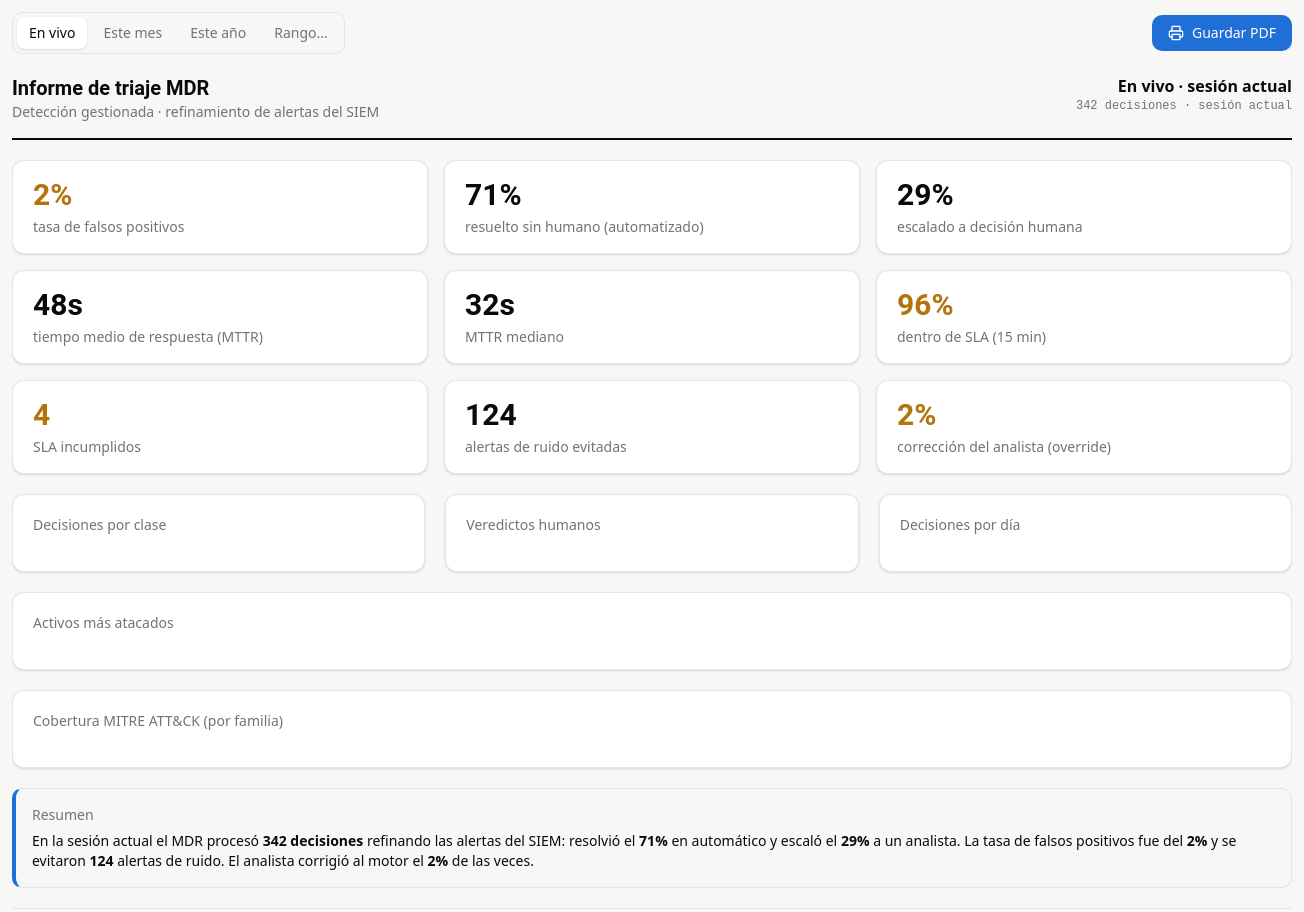
Scenario: Métricas (vista unificada métricas + informe) › al elegir «Este mes» consulta el periodo y muestra su etiqueta
This screenshot has width=1304, height=912.
Check: the text "En vivo · sesión actual" is shown, box top-left (1118, 75), bottom-right (1292, 97)
Click the button "Este mes": {"x": 133, "y": 33} top-left (91, 17), bottom-right (174, 49)
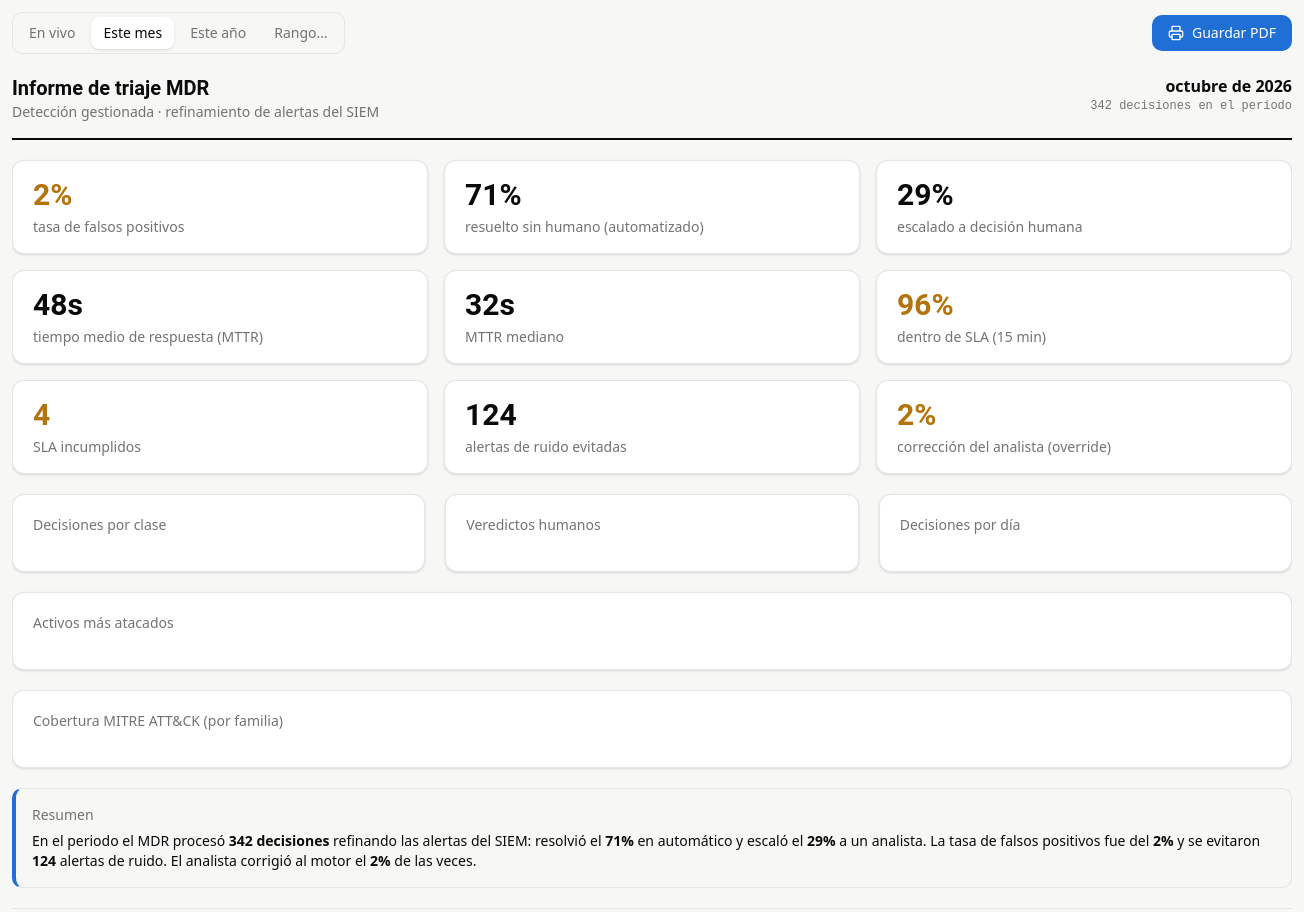
Check: the text "octubre de 2026" is shown, box top-left (1165, 75), bottom-right (1292, 97)
Check: the text "342 decisiones en el periodo" is shown, box top-left (1090, 98), bottom-right (1292, 114)
